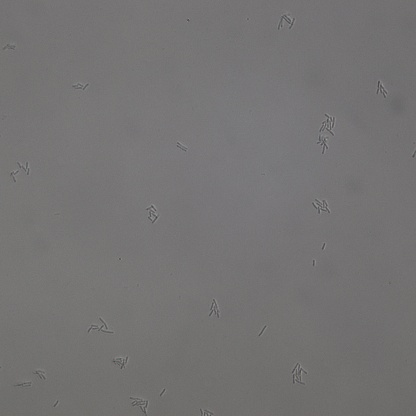R(colony): (86, 318, 114, 337), (129, 396, 150, 416), (290, 361, 308, 384), (11, 162, 31, 181), (277, 11, 295, 31), (319, 113, 336, 134), (146, 202, 160, 227), (112, 355, 132, 371), (312, 199, 332, 215), (207, 299, 221, 320), (316, 136, 330, 154), (376, 81, 388, 99), (72, 81, 89, 90), (33, 369, 47, 379), (176, 142, 188, 152)
